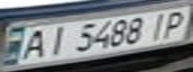4: (93, 18, 115, 51)
5: (72, 20, 96, 53)
8: (124, 14, 151, 45), (109, 17, 133, 47)
A: (15, 26, 54, 61)
I: (39, 24, 72, 56), (142, 10, 175, 40)
P: (157, 7, 193, 39)
